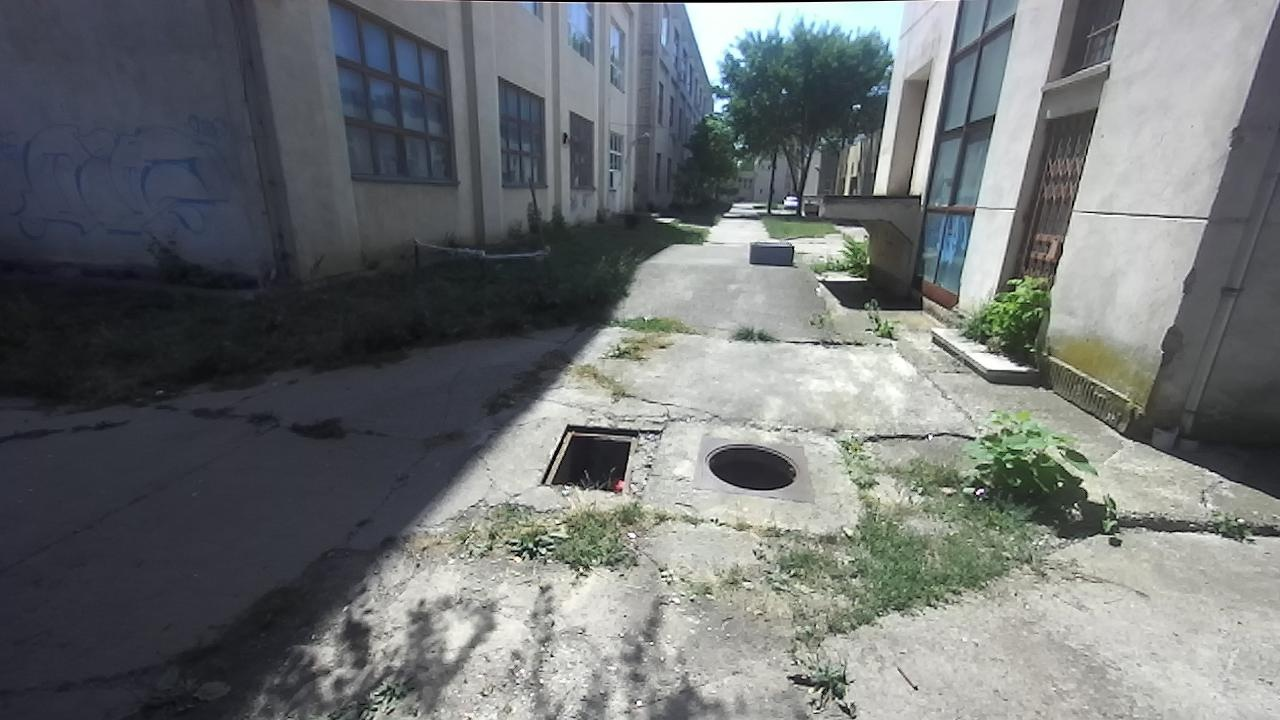drain: (532, 421, 641, 491), (697, 442, 805, 492)
